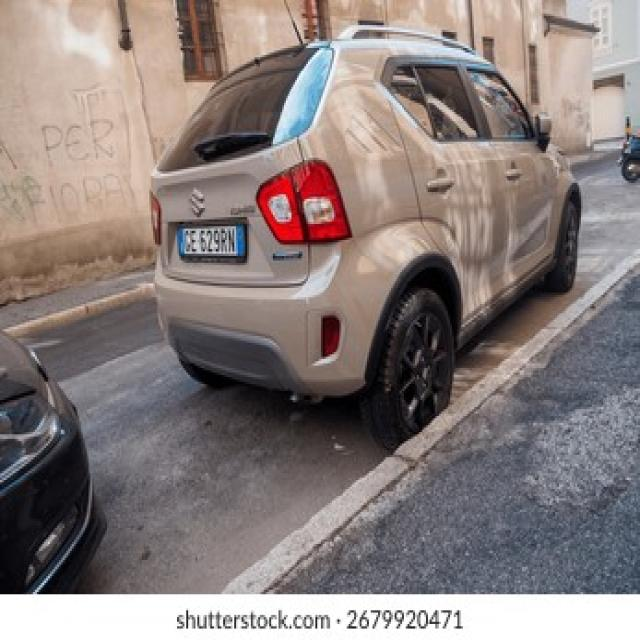suzuki: (187, 189, 209, 219)
